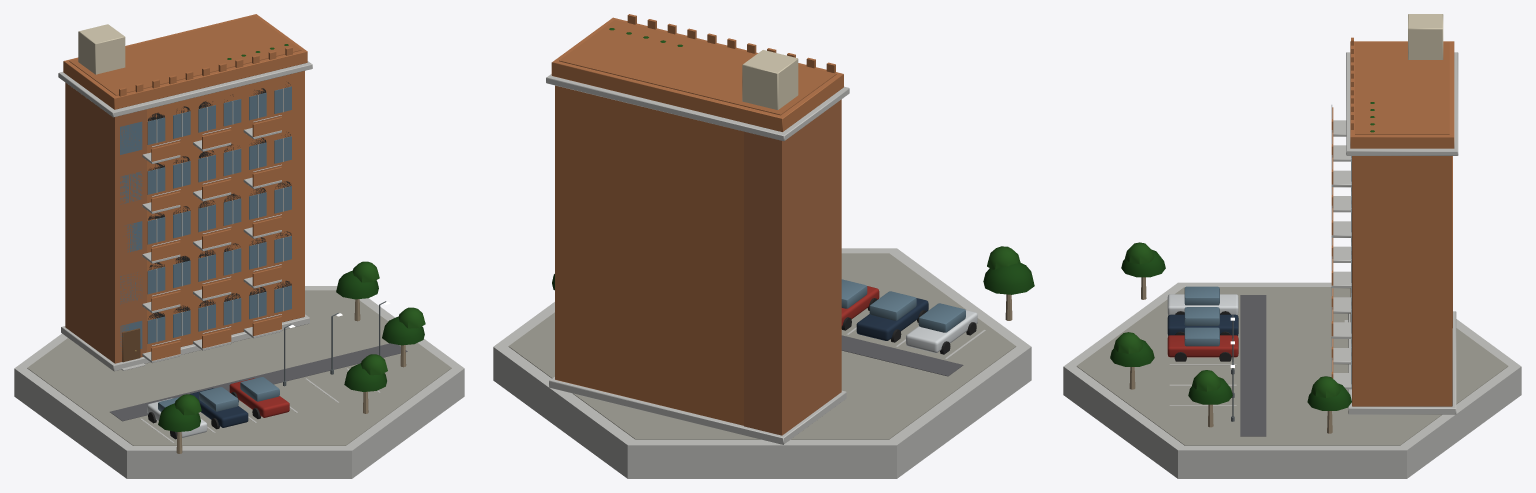
The model's file is apartments_africa.glb.
The picture shows the model from 3 angles, left to right: view 1: azimuth 30°, elevation 25°; view 2: azimuth 150°, elevation 25°; view 3: azimuth 270°, elevation 25°; orthographic projection. The views are drawn at different scales.
Parts seen in each view (by area): view 1: plaster, pavers, wall_concrete, paint, glass, leaf, asphalt, dark, wood, metal; view 2: plaster, paint, wall_concrete, pavers, glass, leaf, asphalt; view 3: plaster, pavers, wall_concrete, leaf, asphalt, paint, glass, wood.
Boxes of the visible parts, left/top/right/bottom form: plaster: left=63, top=14, right=307, bottom=360; pavers: left=27, top=290, right=451, bottom=445; wall_concrete: left=14, top=61, right=464, bottom=478; paint: left=65, top=82, right=289, bottom=437; glass: left=120, top=86, right=291, bottom=411; leaf: left=158, top=44, right=425, bottom=432; asphalt: left=110, top=343, right=407, bottom=421; dark: left=148, top=82, right=291, bottom=439; wood: left=122, top=299, right=406, bottom=453; metal: left=152, top=115, right=281, bottom=345; plaster: left=551, top=14, right=843, bottom=425; paint: left=744, top=99, right=977, bottom=435; wall_concrete: left=493, top=74, right=1031, bottom=478; pavers: left=508, top=253, right=1016, bottom=439; glass: left=841, top=279, right=965, bottom=332; leaf: left=552, top=28, right=1034, bottom=294; asphalt: left=841, top=335, right=963, bottom=376; plaster: left=1331, top=14, right=1454, bottom=406; pavers: left=1076, top=287, right=1508, bottom=445; wall_concrete: left=1063, top=52, right=1521, bottom=478; leaf: left=1110, top=102, right=1374, bottom=410; asphalt: left=1240, top=295, right=1266, bottom=436; paint: left=1167, top=156, right=1452, bottom=357; glass: left=1184, top=156, right=1351, bottom=387; wood: left=1129, top=277, right=1350, bottom=433.
Bounding box in the file's own units: 21.3 × 20.04 × 24.6.
